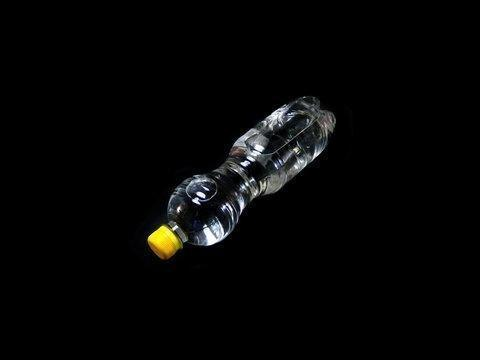bottle-plastic: (145, 92, 339, 260)
